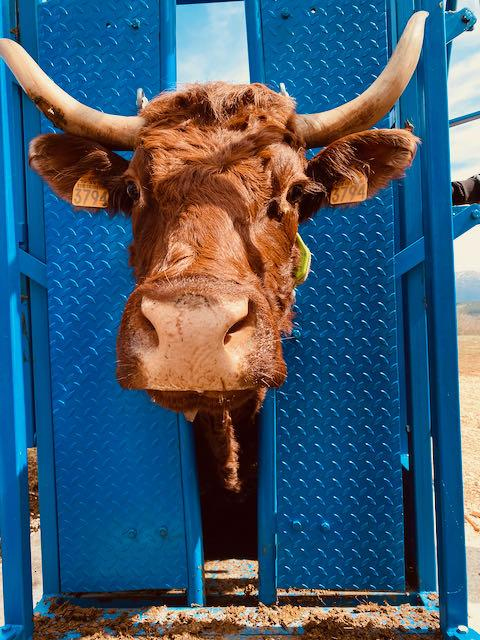muzzles: (109, 287, 290, 408)
